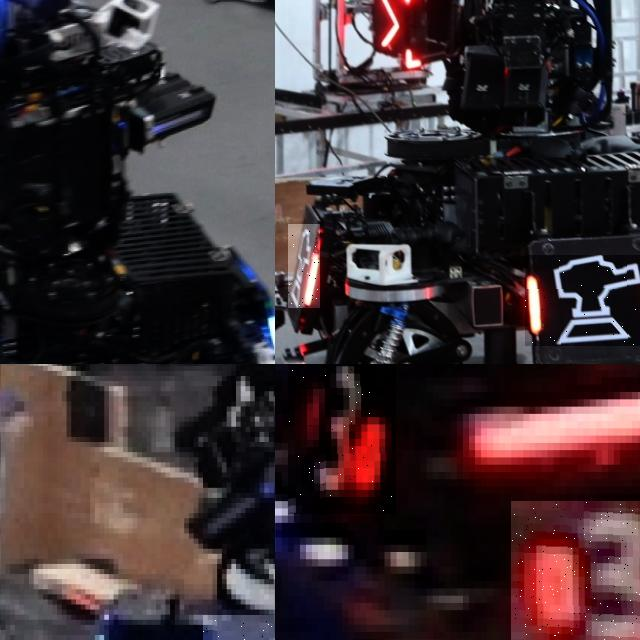R3: (511, 501, 640, 640), (287, 364, 396, 515)
Rs: (525, 254, 640, 346), (288, 224, 320, 308)
